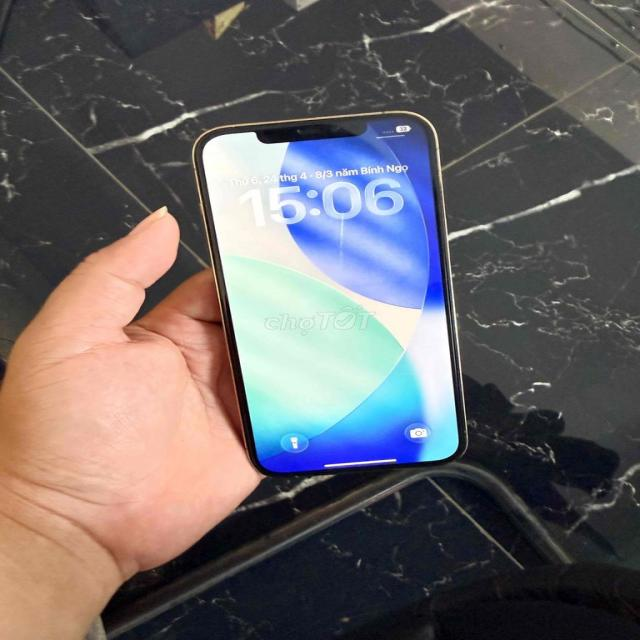gen_12_13: (192, 108, 466, 479)
